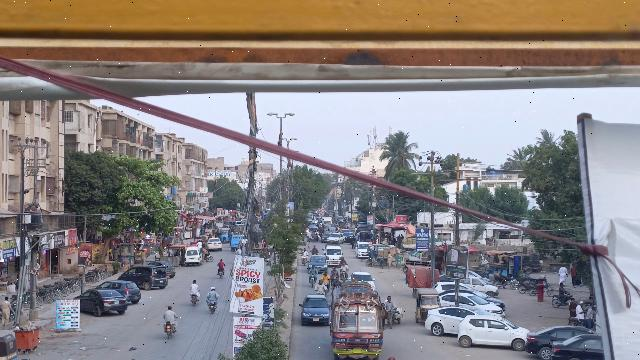Bike: (550, 294, 575, 309), (163, 322, 176, 341), (189, 293, 200, 310), (206, 300, 216, 317), (308, 274, 319, 288), (215, 269, 225, 281)
Bus: (328, 281, 384, 360)
Car: (455, 314, 529, 351), (522, 325, 594, 358), (423, 305, 482, 337), (72, 288, 127, 317), (550, 330, 602, 360), (442, 292, 507, 316), (118, 265, 170, 290), (99, 279, 144, 304), (298, 293, 331, 326), (352, 271, 377, 291)
Cart: (383, 295, 404, 329)
Person: (0, 295, 15, 325), (162, 304, 177, 323), (205, 284, 219, 302), (575, 299, 587, 319), (555, 281, 568, 299), (188, 278, 202, 294), (385, 296, 396, 312), (215, 257, 226, 270), (308, 264, 319, 276), (569, 299, 576, 317)
Rickshaw: (414, 286, 440, 324)
Van: (325, 244, 344, 267), (183, 245, 202, 267)
